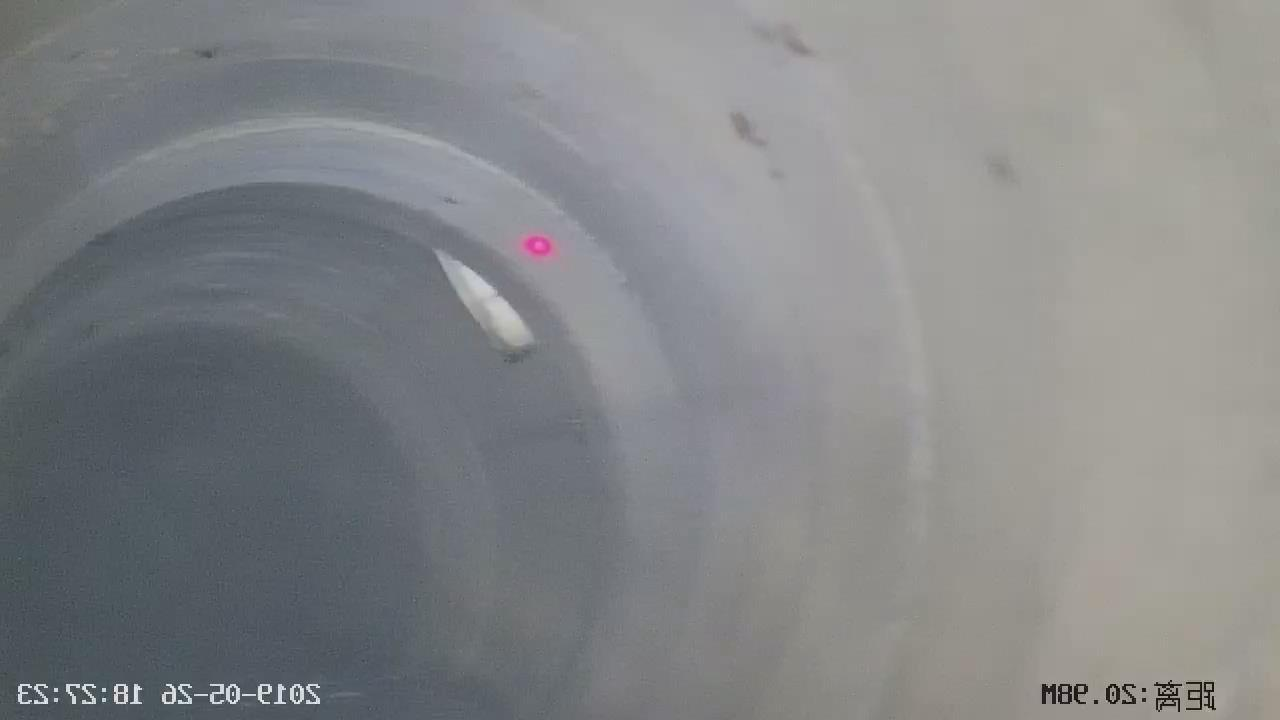ZGAJ: (435, 249, 535, 353)
